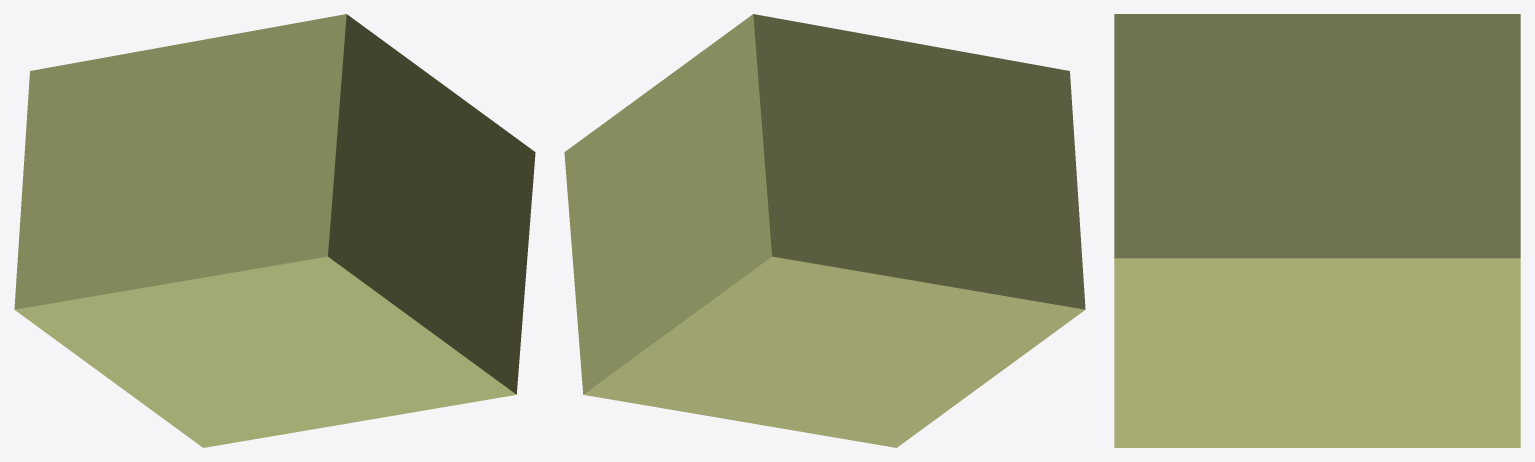
3 views of the same model, side by side, from view 1: azimuth 30°, elevation 25°; view 2: azimuth 150°, elevation 25°; view 3: azimuth 270°, elevation 25° (orthographic). The views are drawn at different scales.
Visible parts, largest first — view 1: 0_0_1_1_2_2_1_2_2; view 2: 0_0_1_1_2_2_1_2_2; view 3: 0_0_1_1_2_2_1_2_2.
Boxes of the visible parts, x1=… form: 0_0_1_1_2_2_1_2_2: x1=14, y1=14, x2=535, y2=447; 0_0_1_1_2_2_1_2_2: x1=564, y1=14, x2=1085, y2=447; 0_0_1_1_2_2_1_2_2: x1=1114, y1=14, x2=1520, y2=447.
Bounding box in the file's own units: 9.14 × 6.79 × 9.
